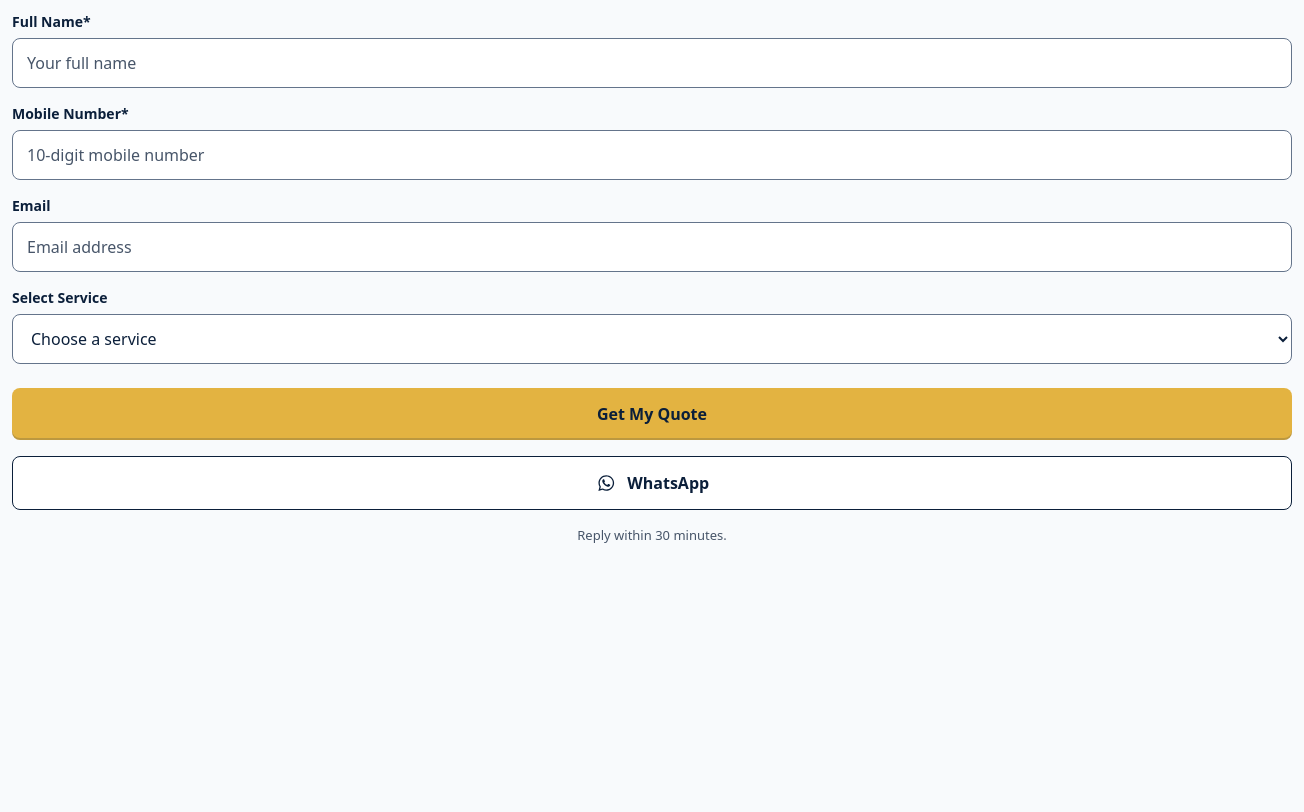
checklist answers on the page › Get My Quote shows the thank-you message with its heading in bold
In the field labelled "Full Name*": (652, 63) [12, 38, 1292, 88], type "Asha Verma"
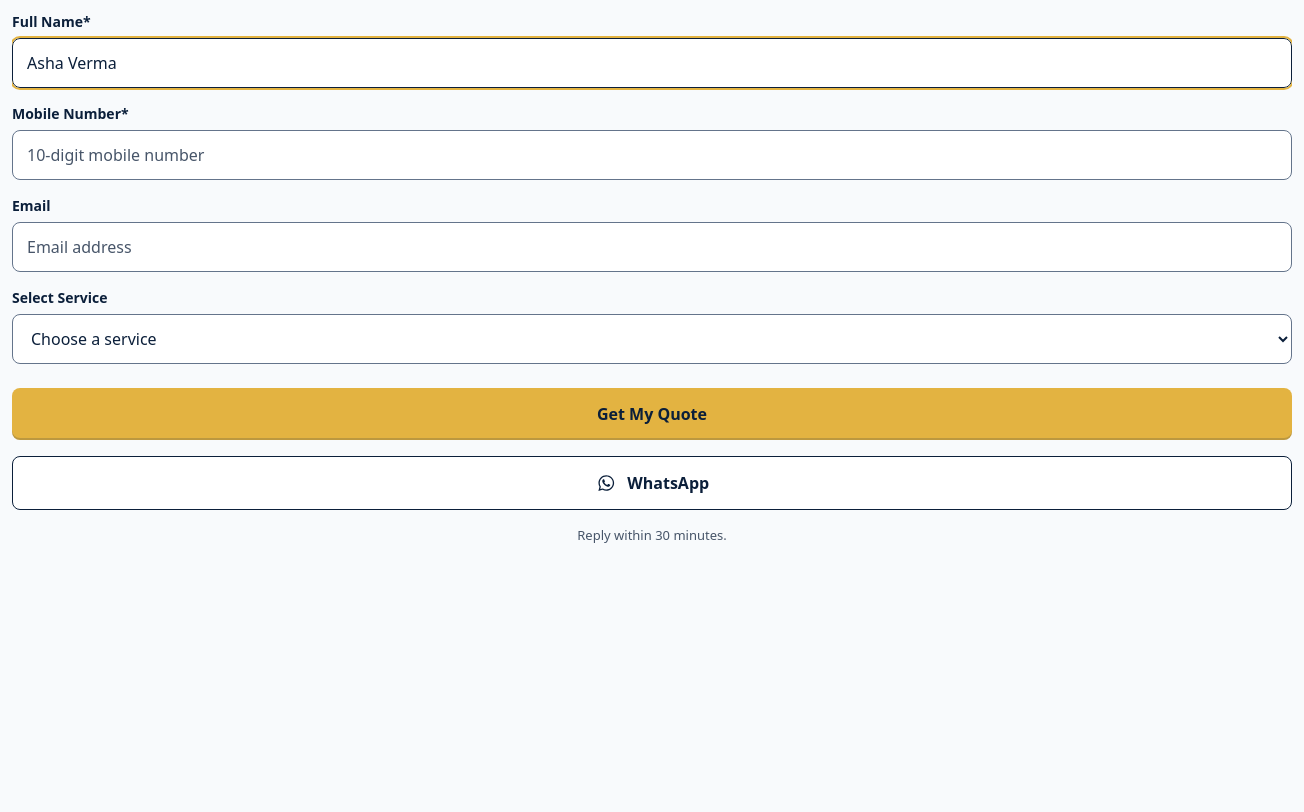
In the field labelled "Mobile Number*": (652, 155) [12, 130, 1292, 180], type "9876543210"
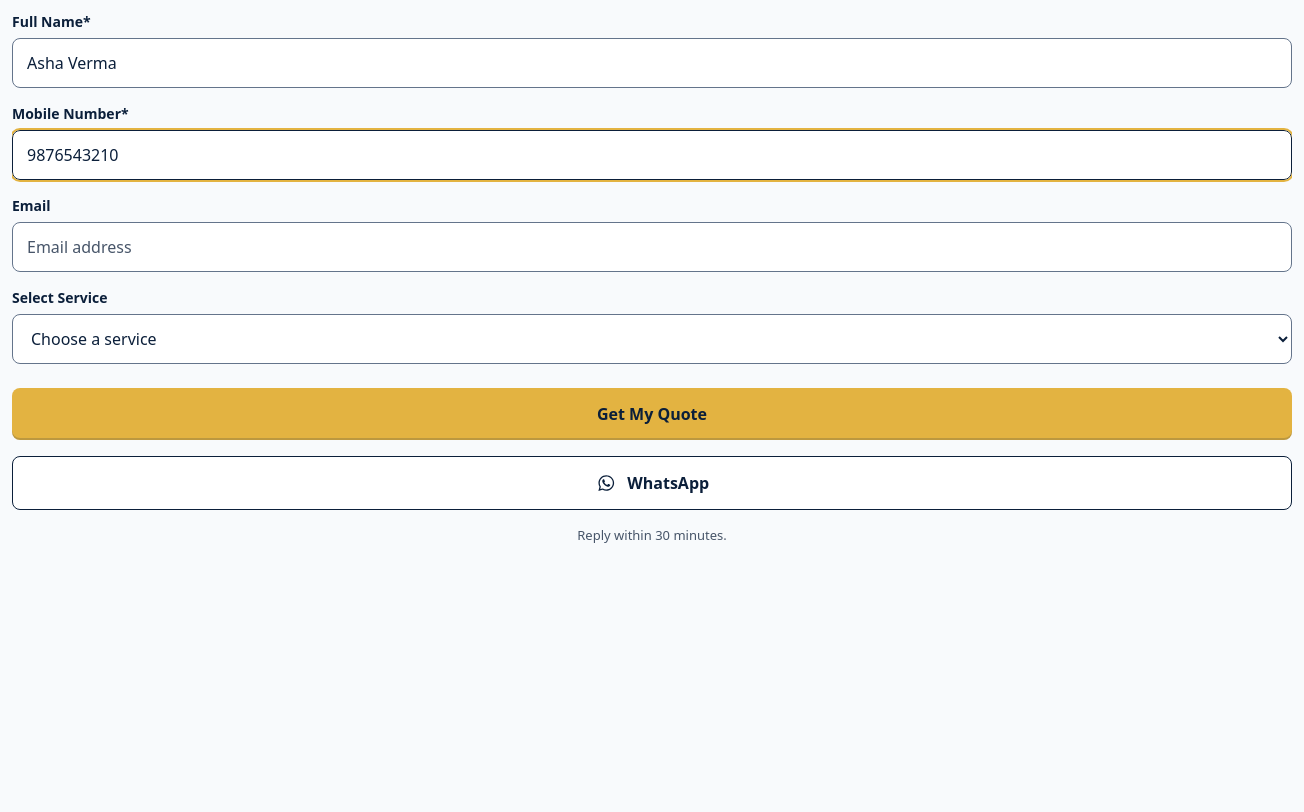
Click the button "Get My Quote": (652, 414) [12, 388, 1292, 440]
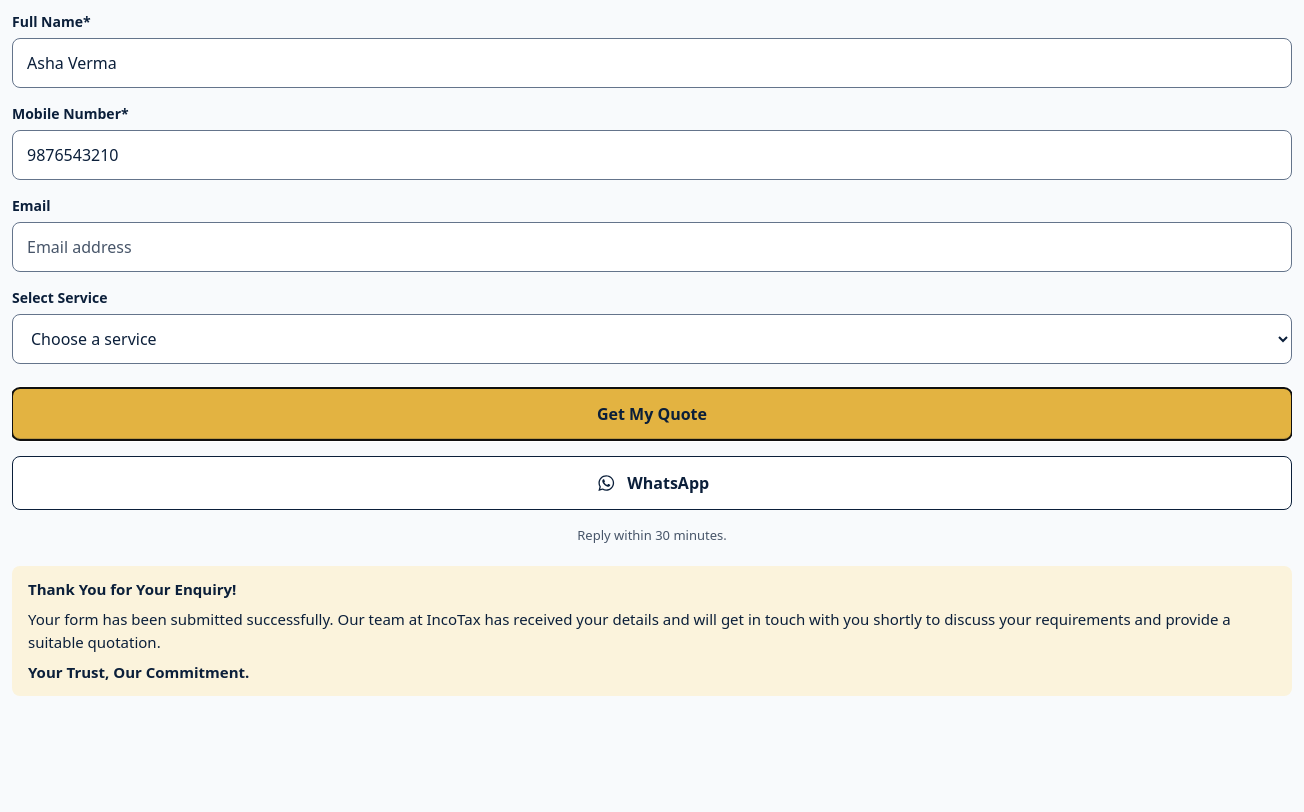
Check: the text "Your form has been submitted successfully" is shown, box [28, 609, 1231, 652]
